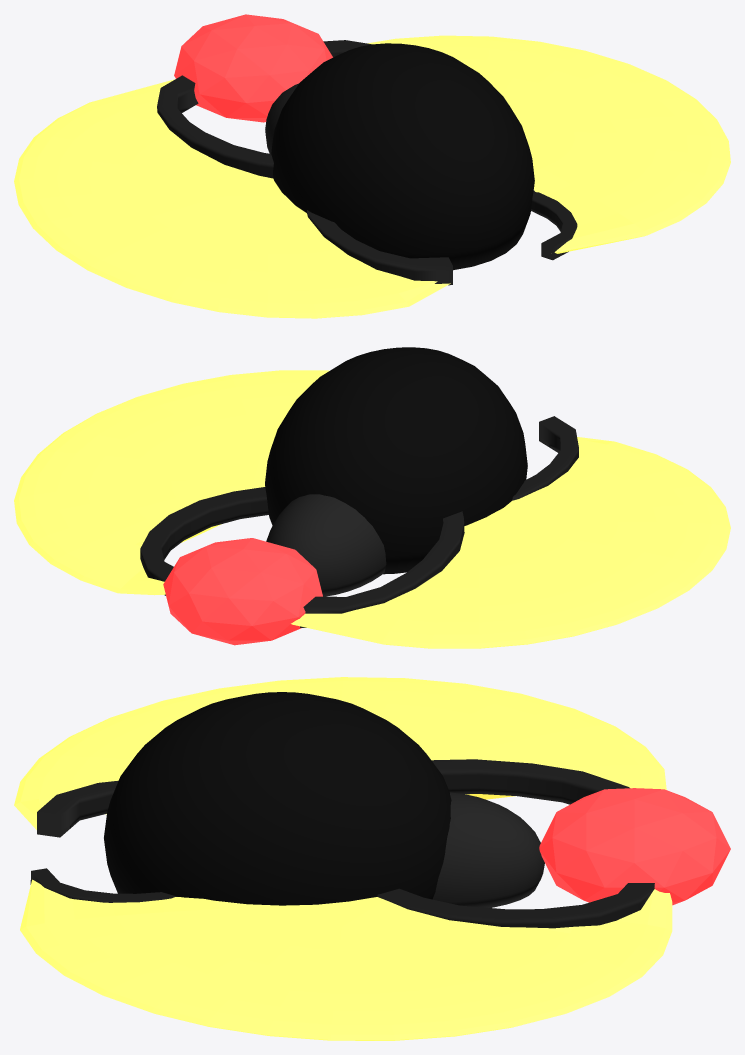
The model's file is scarab.fbx.
3 views of the same model, one above another, from view 1: azimuth 30°, elevation 25°; view 2: azimuth 150°, elevation 25°; view 3: azimuth 270°, elevation 25° (orthographic). The views are drawn at different scales.
Parts seen in each view (by area): view 1: Sphere.002; view 2: Sphere.002; view 3: Sphere.002.
Boxes of the visible parts, <box> form: Sphere.002: <box>14,14,730,318</box>; Sphere.002: <box>14,347,730,648</box>; Sphere.002: <box>14,677,730,1040</box>.
Bounding box in the file's own units: 1159 × 285 × 969.
